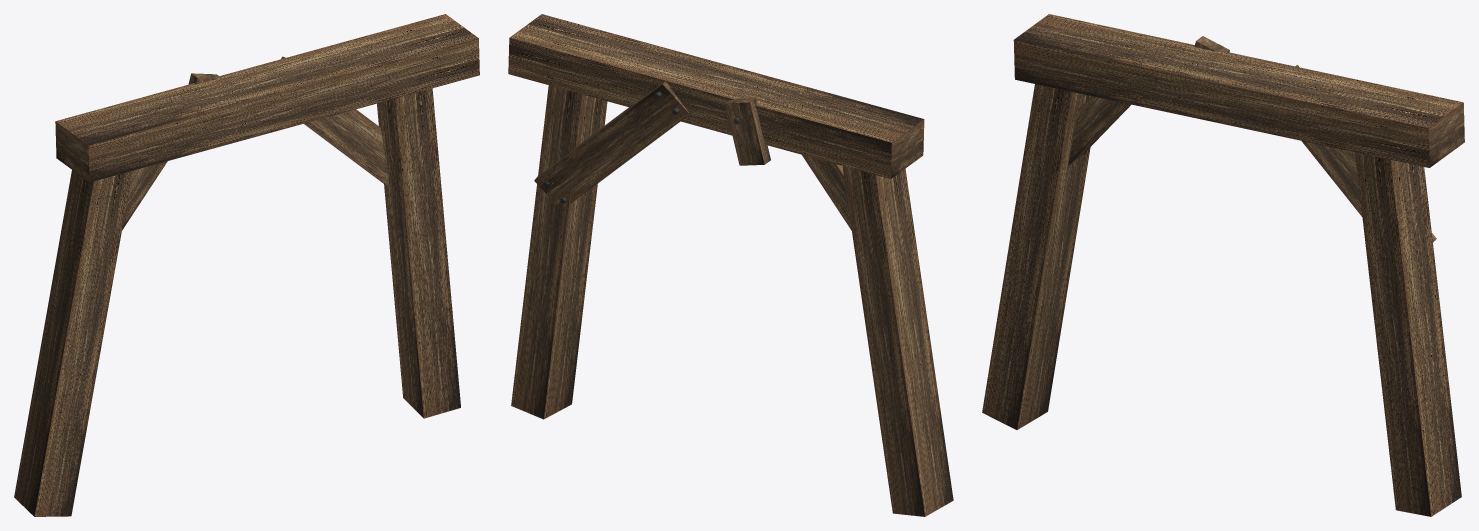
File: shaft5.fbx
The picture shows the model from 3 angles, left to right: view 1: azimuth 30°, elevation 25°; view 2: azimuth 150°, elevation 25°; view 3: azimuth 330°, elevation 25°; orthographic projection. The views are drawn at different scales.
Visible parts, largest first — view 1: wood; view 2: wood; view 3: wood.
Part boxes in pixels (x1,y1,x2,y2): wood: (14,14,479,516); wood: (508,14,953,516); wood: (982,14,1464,516).
Bounding box in the file's own units: 1048 × 898 × 166.
Materials: 2 (2 with a texture image).
